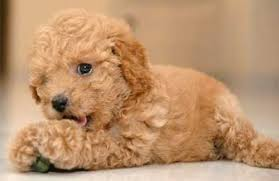Bulldog: (17, 9, 279, 175)
